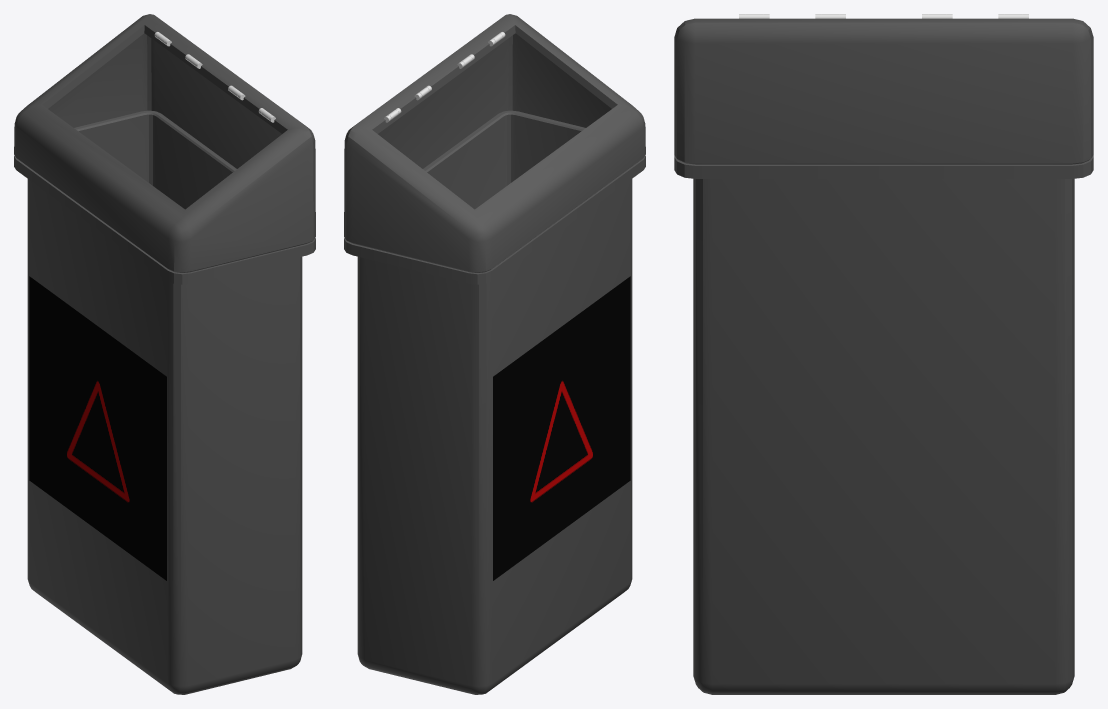
File: bin.gltf
3 views of the same model, side by side, from view 1: azimuth 30°, elevation 25°; view 2: azimuth 150°, elevation 25°; view 3: azimuth 270°, elevation 25° (orthographic). The views are drawn at different scales.
Parts seen in each view (by area): view 1: Cube.004; view 2: Cube.004; view 3: Cube.004.
Part boxes in pixels (x1,y1,x2,y2): Cube.004: [14, 14, 315, 694]; Cube.004: [344, 14, 645, 694]; Cube.004: [674, 14, 1093, 694].
Bounding box in the file's own units: 0.275 × 0.9809 × 0.55.
3 materials, 1 textured.
